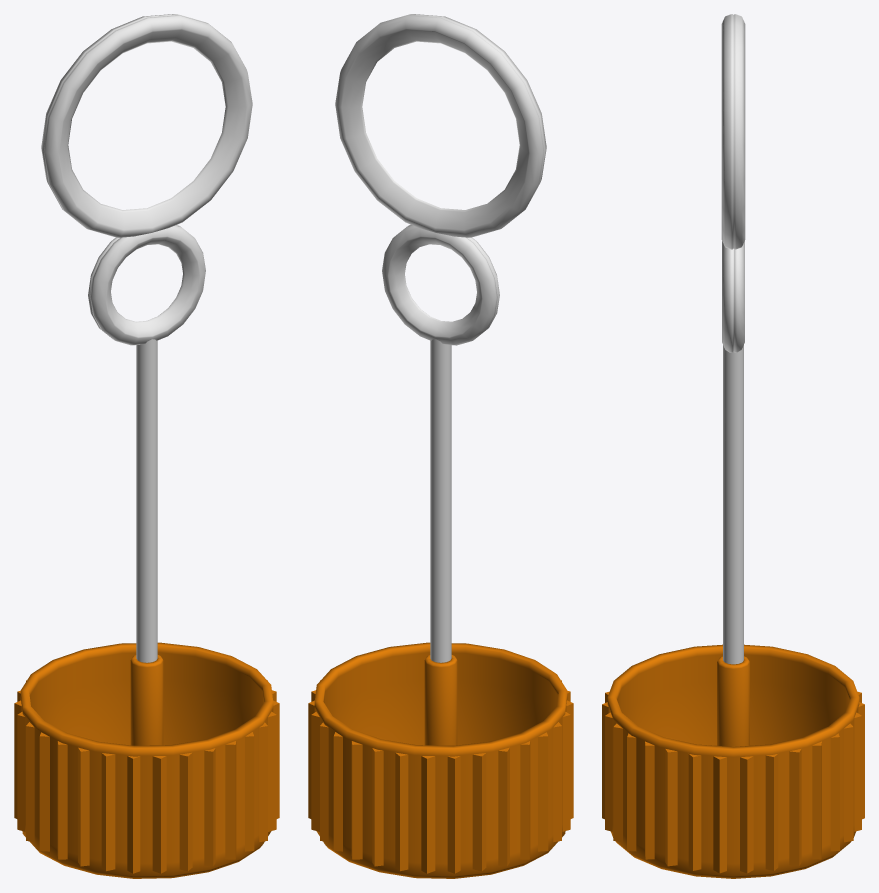
File: wand.fbx
The picture shows the model from 3 angles, left to right: view 1: azimuth 30°, elevation 25°; view 2: azimuth 150°, elevation 25°; view 3: azimuth 270°, elevation 25°; orthographic projection.
Parts seen in each view (by area): view 1: wand; view 2: wand; view 3: wand.
Boxes of the visible parts, <box> form: wand: <box>14,14,279,878</box>; wand: <box>308,14,573,878</box>; wand: <box>602,14,864,878</box>.
Bounding box in the file's own units: 3.71 × 12.61 × 3.74.
